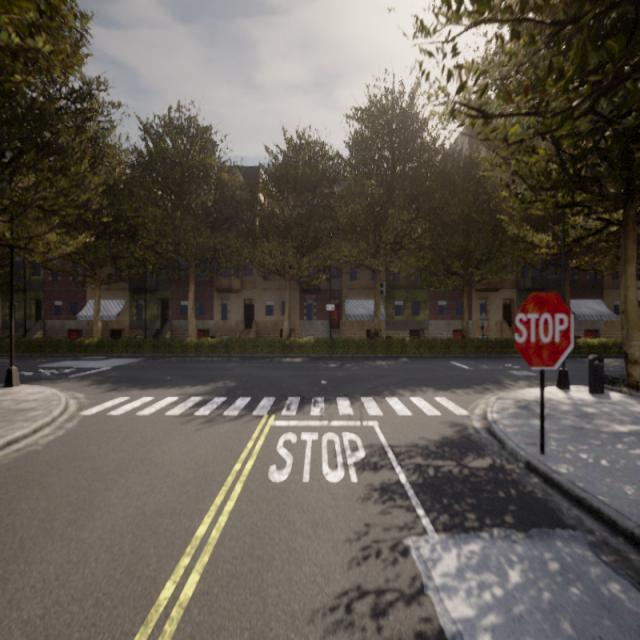stop sign: (510, 288, 576, 372), (514, 309, 570, 346)
